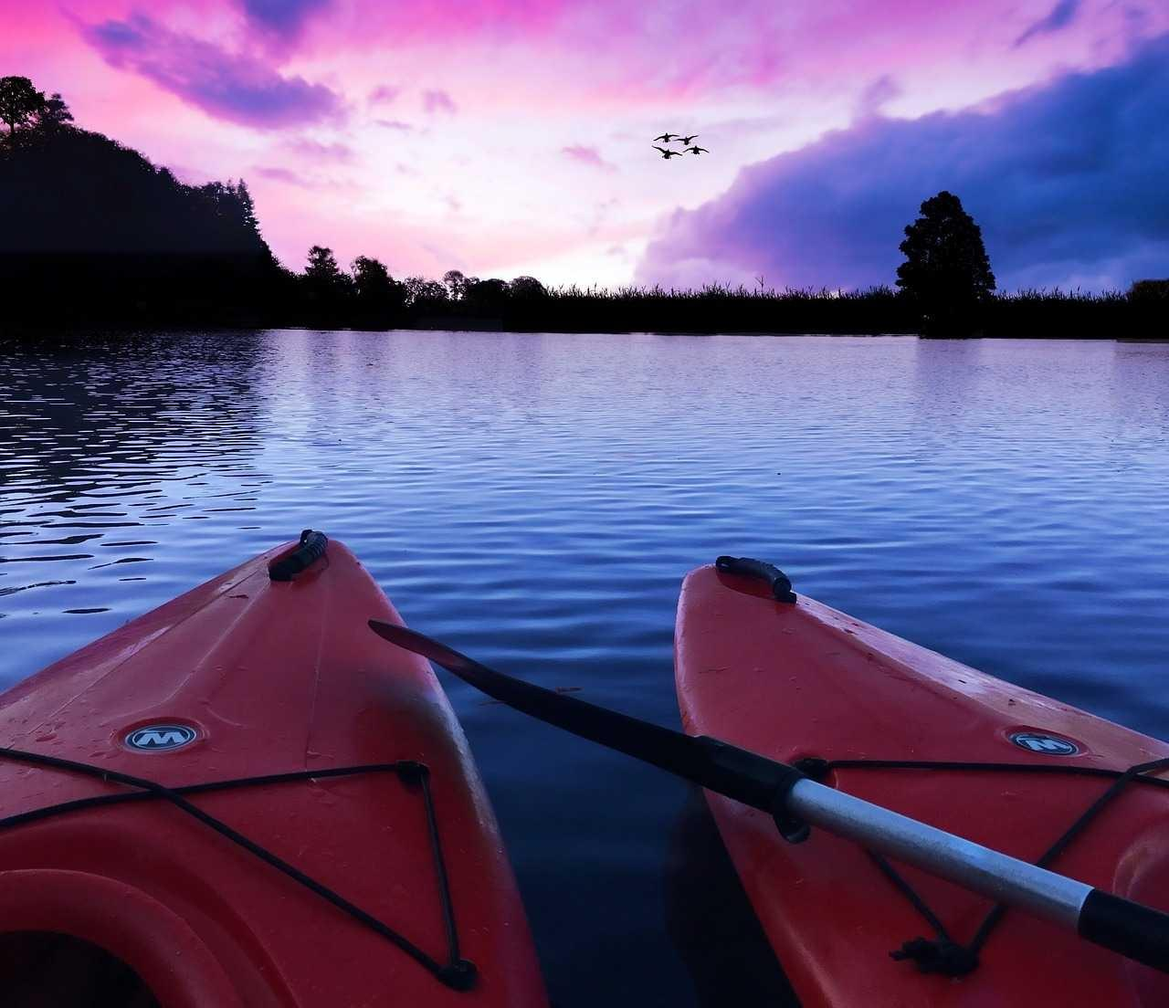kayak: (3, 528, 548, 998), (674, 555, 1167, 999)
